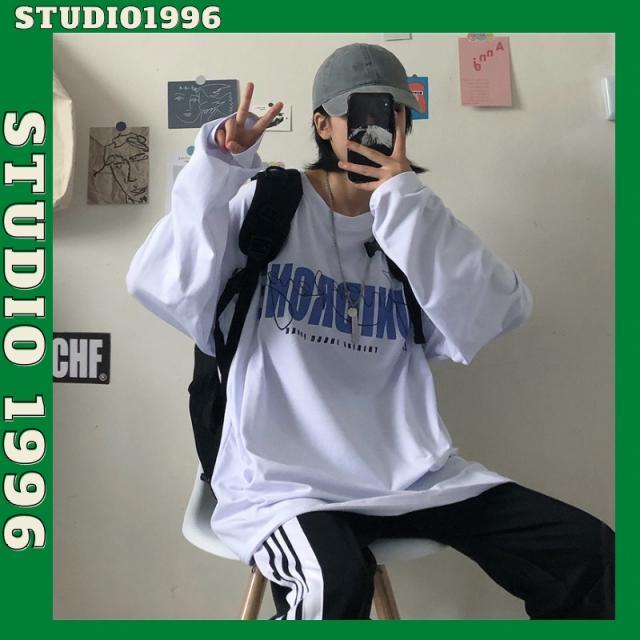Shirt: (120, 106, 540, 572)
